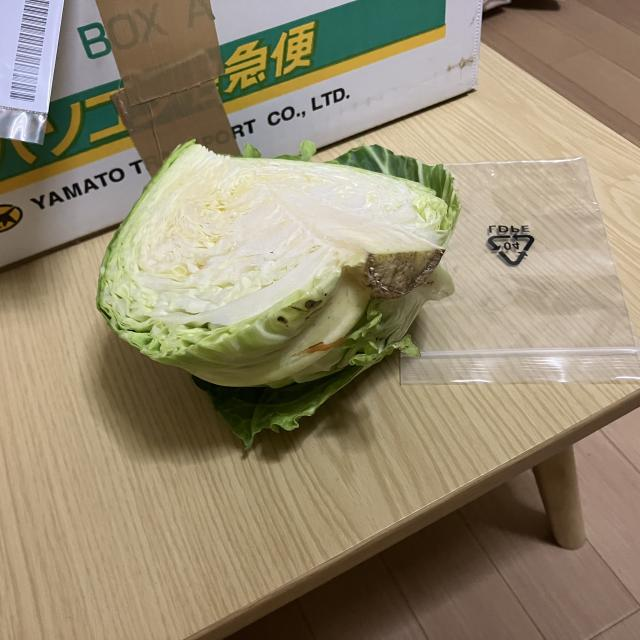haft-cabbage: (96, 140, 464, 461)
